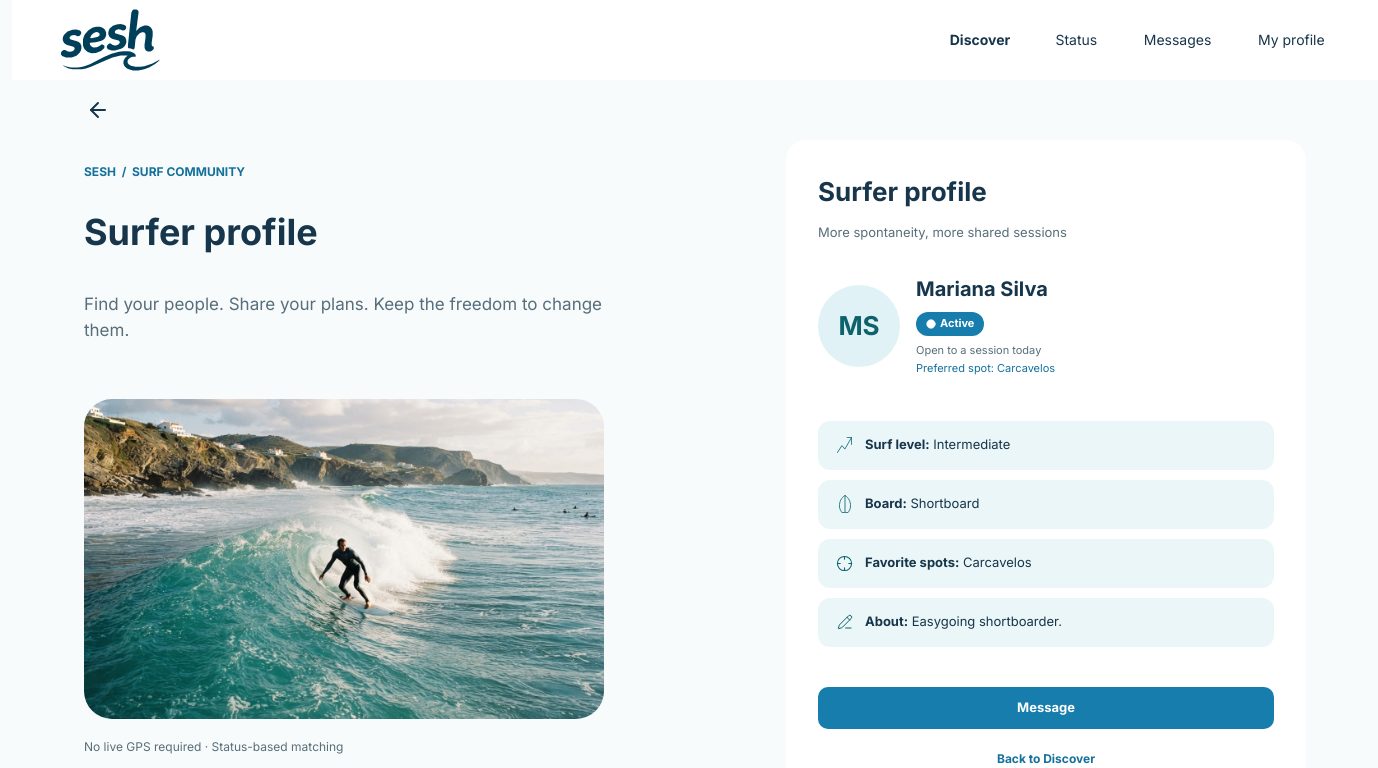
public profile: Message button › recipient not found (404): a short message without server details, no navigation
Expected: the heading "Mariana Silva" is shown, [916, 276, 1048, 300]
Step 1. Click the button "Message" → [1046, 708], box [818, 686, 1274, 728]
(page scrolled)
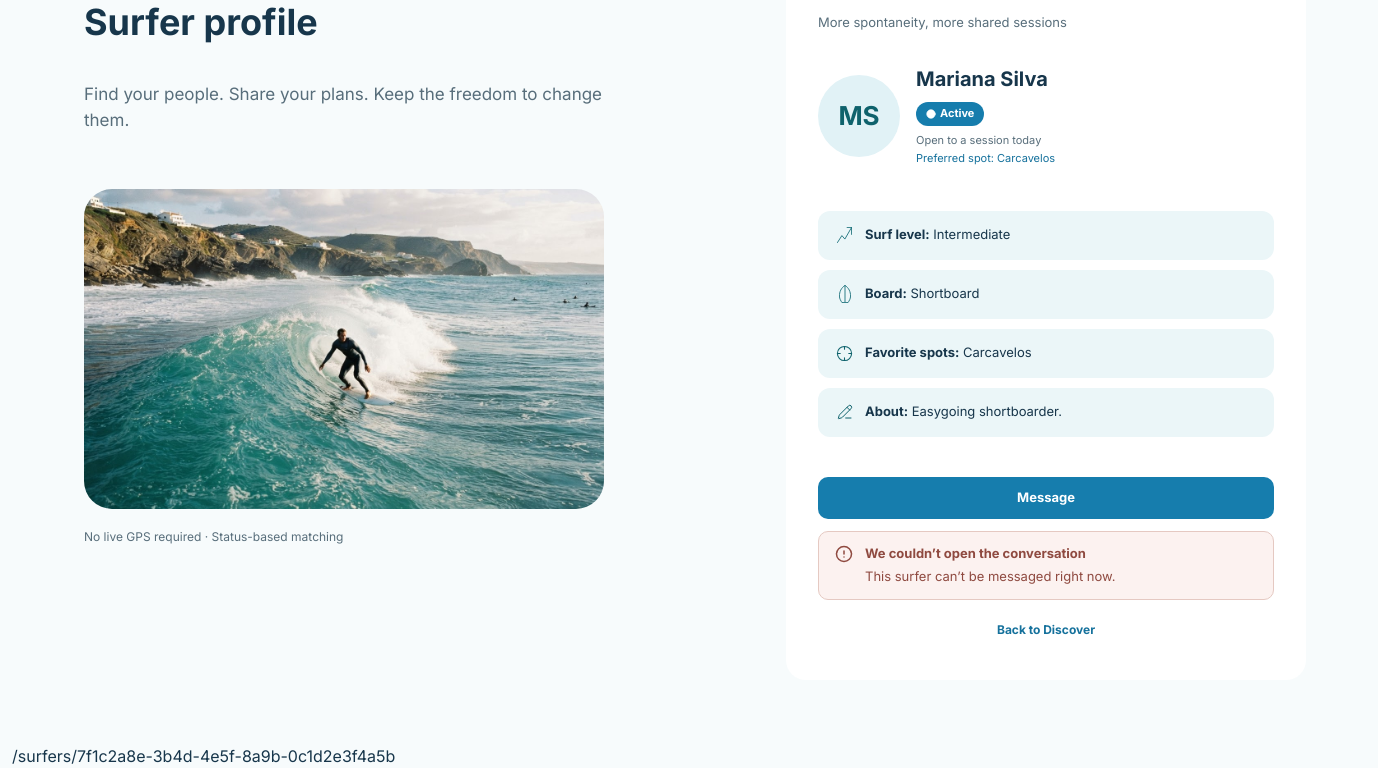
Expected: the message shows "This surfer can’t be messaged right now.", [865, 568, 1116, 584]
